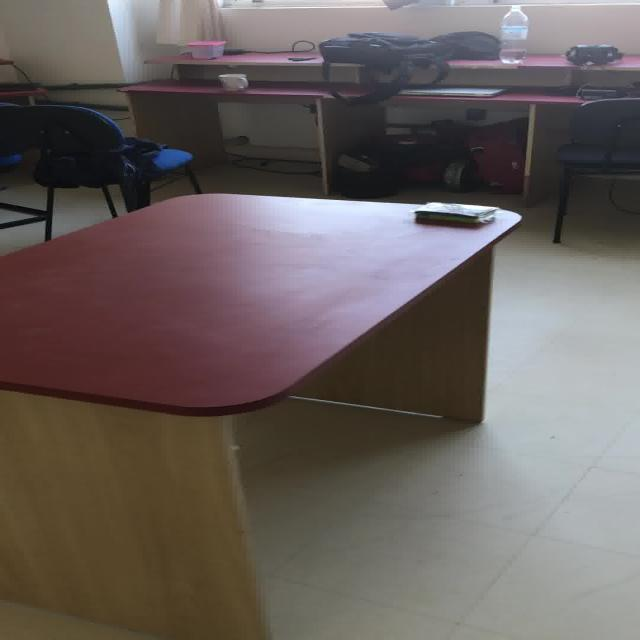sponge: (411, 201, 498, 224), (186, 39, 227, 58)
